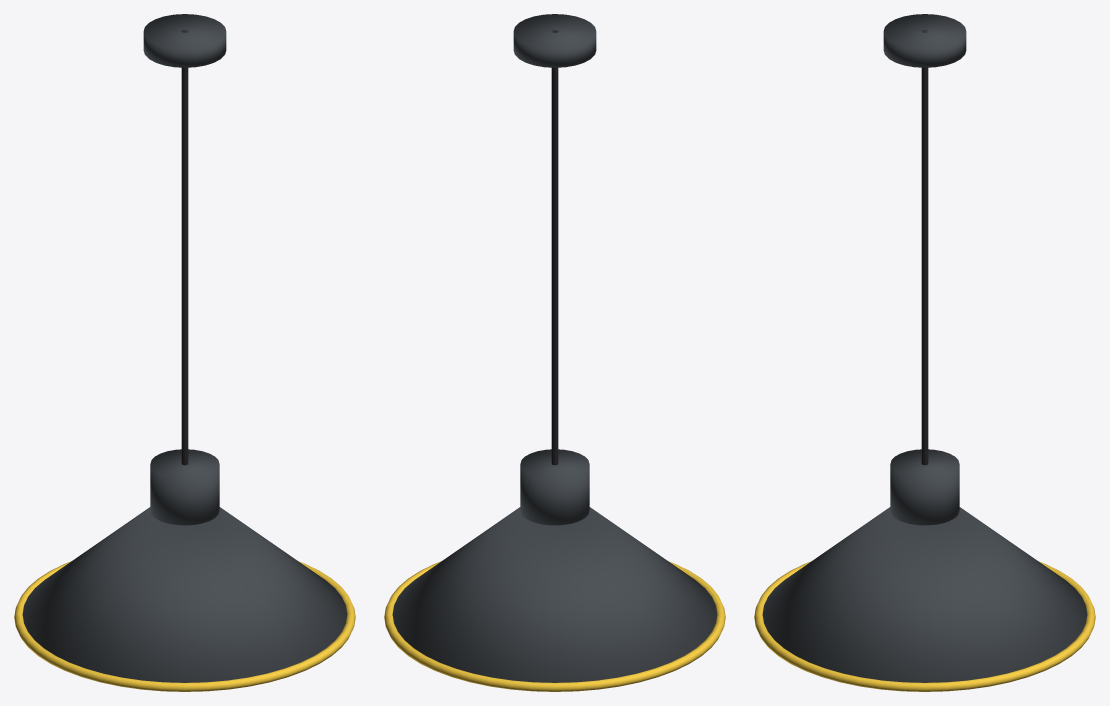
The model's file is Env_PendantLamp.fbx.
3 views of the same model, side by side, from view 1: azimuth 30°, elevation 25°; view 2: azimuth 150°, elevation 25°; view 3: azimuth 270°, elevation 25° (orthographic).
Parts seen in each view (by area): view 1: Env_Lamp_Shade, Env_Lamp_Socket, Env_Lamp_Rim, Env_Lamp_Canopy, Env_Lamp_Cable; view 2: Env_Lamp_Shade, Env_Lamp_Socket, Env_Lamp_Rim, Env_Lamp_Canopy, Env_Lamp_Cable; view 3: Env_Lamp_Shade, Env_Lamp_Socket, Env_Lamp_Rim, Env_Lamp_Canopy, Env_Lamp_Cable.
Boxes of the visible parts, x1,y1,x2,y2 form: Env_Lamp_Shade: (22, 507, 347, 682); Env_Lamp_Socket: (150, 449, 219, 525); Env_Lamp_Rim: (14, 561, 355, 691); Env_Lamp_Canopy: (143, 14, 226, 67); Env_Lamp_Cable: (181, 30, 188, 465); Env_Lamp_Shade: (392, 507, 717, 682); Env_Lamp_Socket: (520, 449, 589, 525); Env_Lamp_Rim: (384, 561, 725, 691); Env_Lamp_Canopy: (513, 14, 596, 67); Env_Lamp_Cable: (551, 30, 558, 465); Env_Lamp_Shade: (762, 507, 1087, 682); Env_Lamp_Socket: (890, 449, 959, 525); Env_Lamp_Rim: (754, 561, 1095, 691); Env_Lamp_Canopy: (883, 14, 966, 67); Env_Lamp_Cable: (921, 30, 928, 465).
Size of the model in its own units: 0.494 by 0.942 by 0.494.
